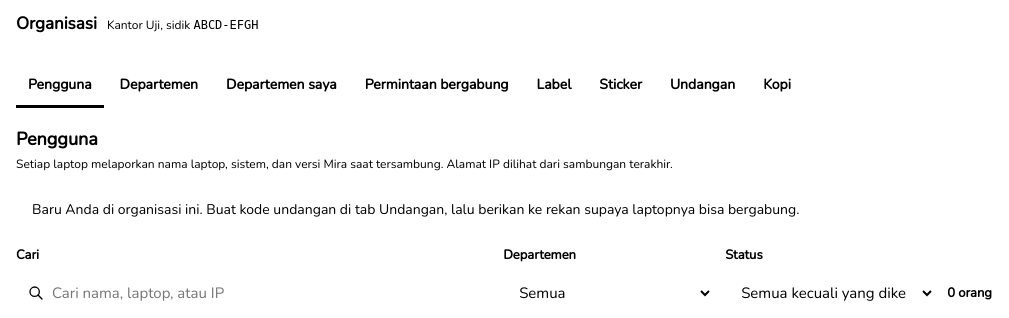
Test: Sticker: tab dan keadaan › kosong: tanpa paket bawaan, mengajak menambah sticker milik kantor
Click the button "Sticker".
click(621, 86)  # box [587,64,654,108]
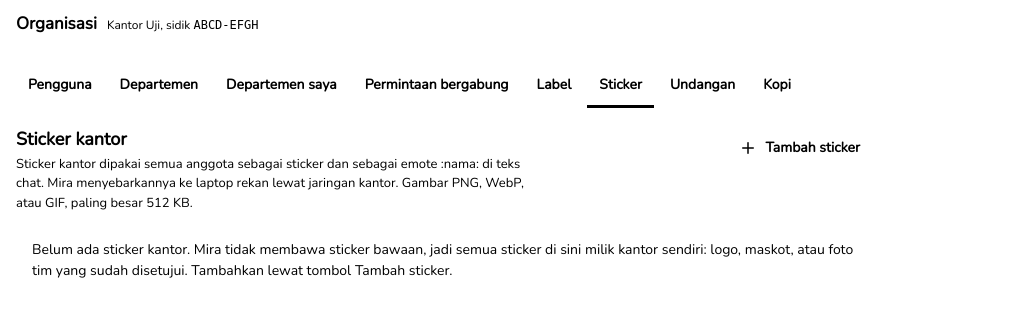
Result: the text "Belum ada sticker kantor. Mira tidak membawa sticker bawaan" is shown at [32,240,853,280]
Result: the button "Tambah sticker" is enabled at [723,126,876,170]
